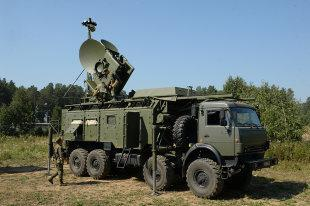truck: (50, 87, 274, 204)
